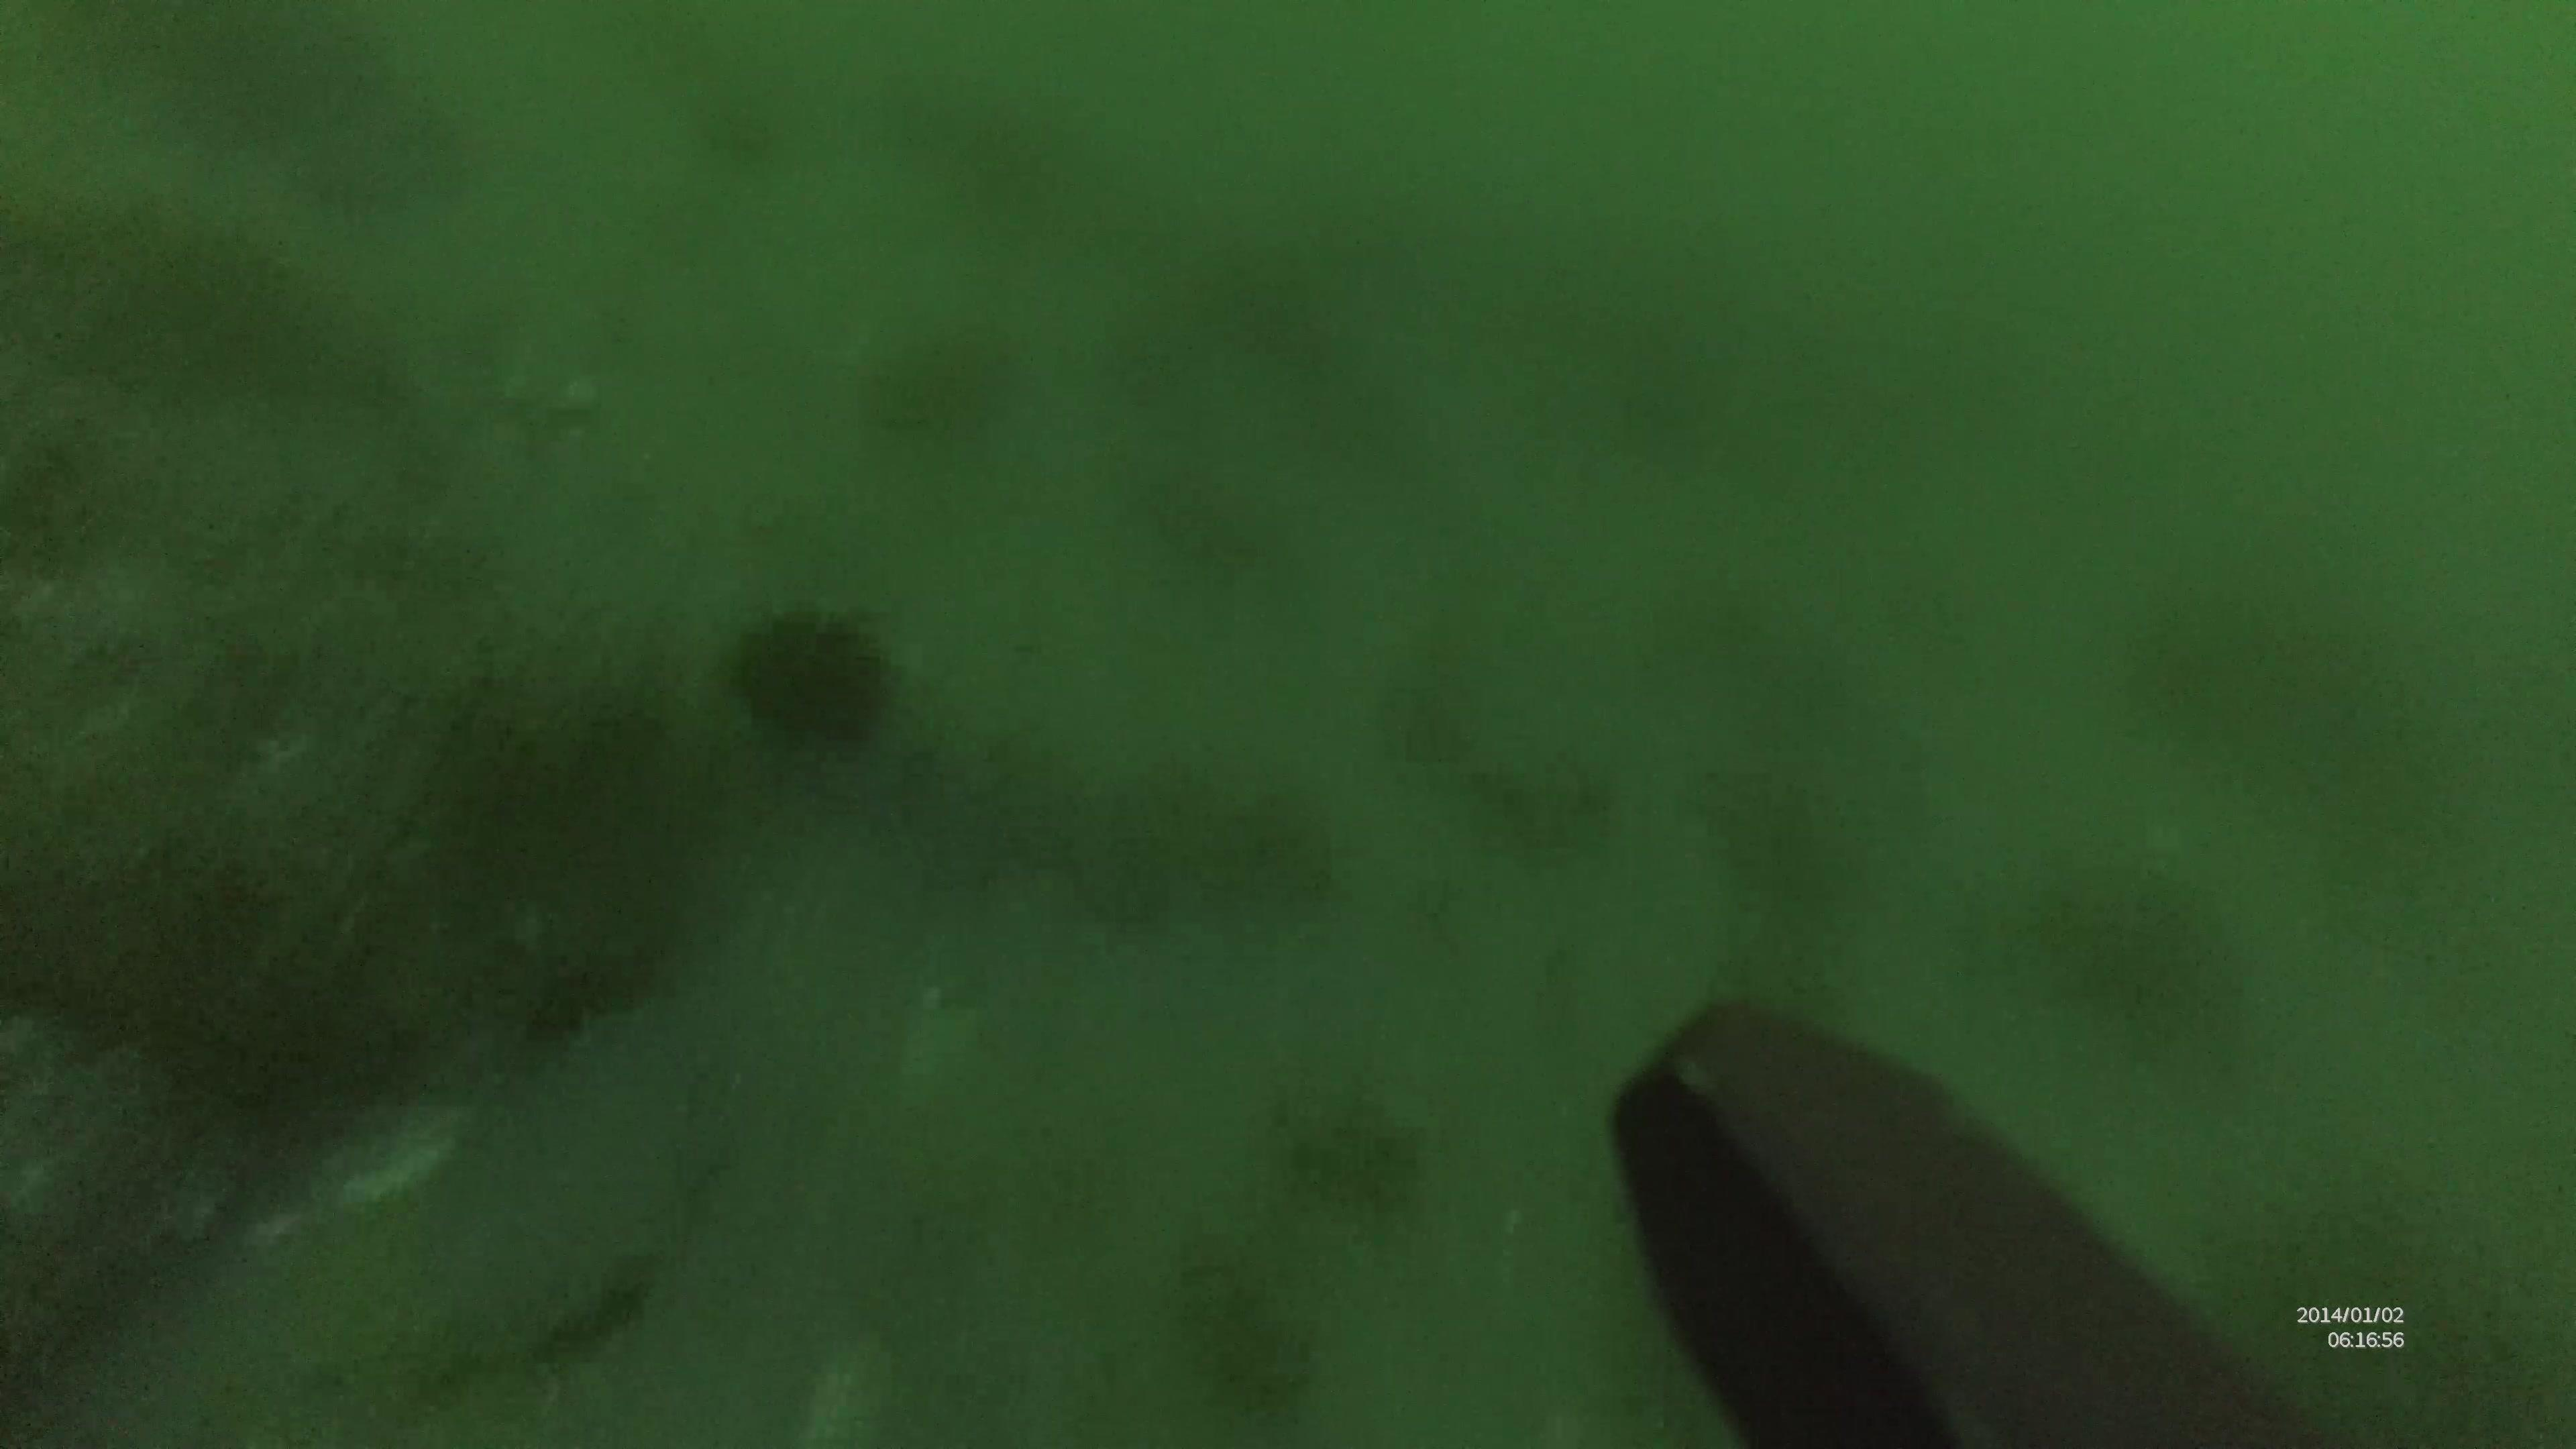echinus: (734, 605, 892, 752)
scallop: (899, 989, 991, 1100)
